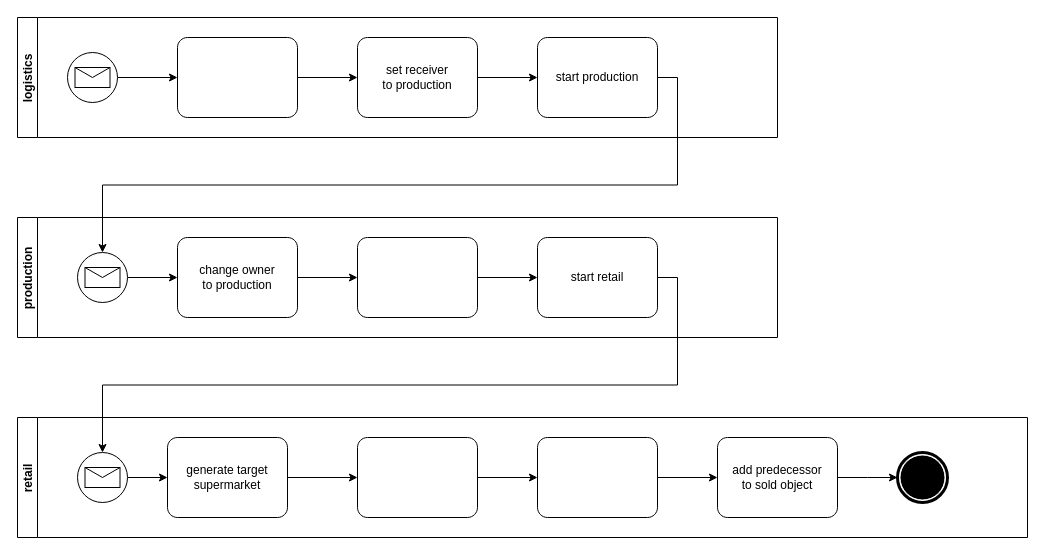
Image size: 1045x555. Some labels were removed from this diagram. The centre of each missing label's shape, as x and y in pixels:
"change Owner to logistic" goes at (x=237, y=77).
"change Owner to retail" goes at (x=417, y=477).
"create sold object" goes at (x=597, y=477).
"set receiver to retail" goes at (x=417, y=277).
